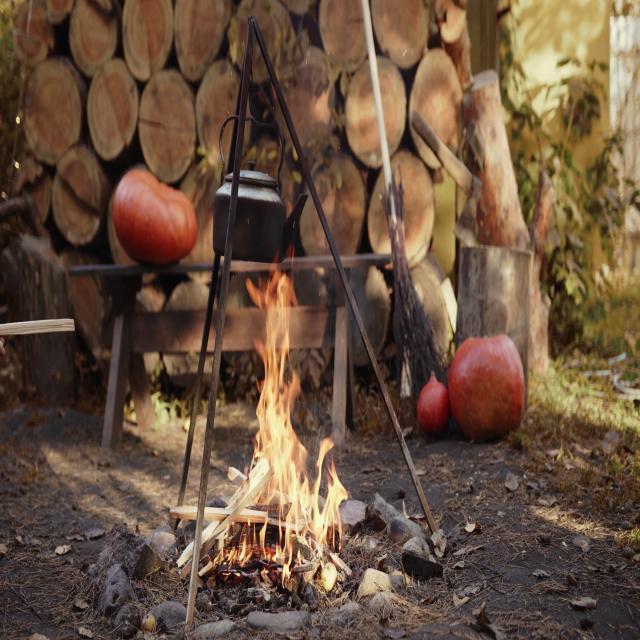Fire: (215, 269, 352, 584)
